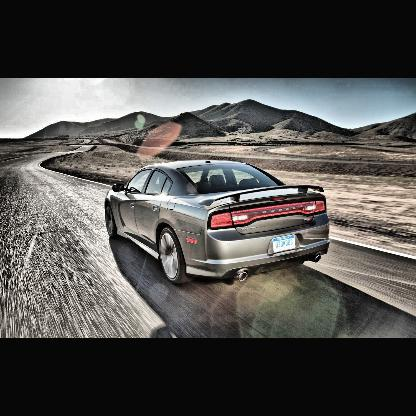Dodge Charger Sedan 2012: (103, 159, 333, 285)
